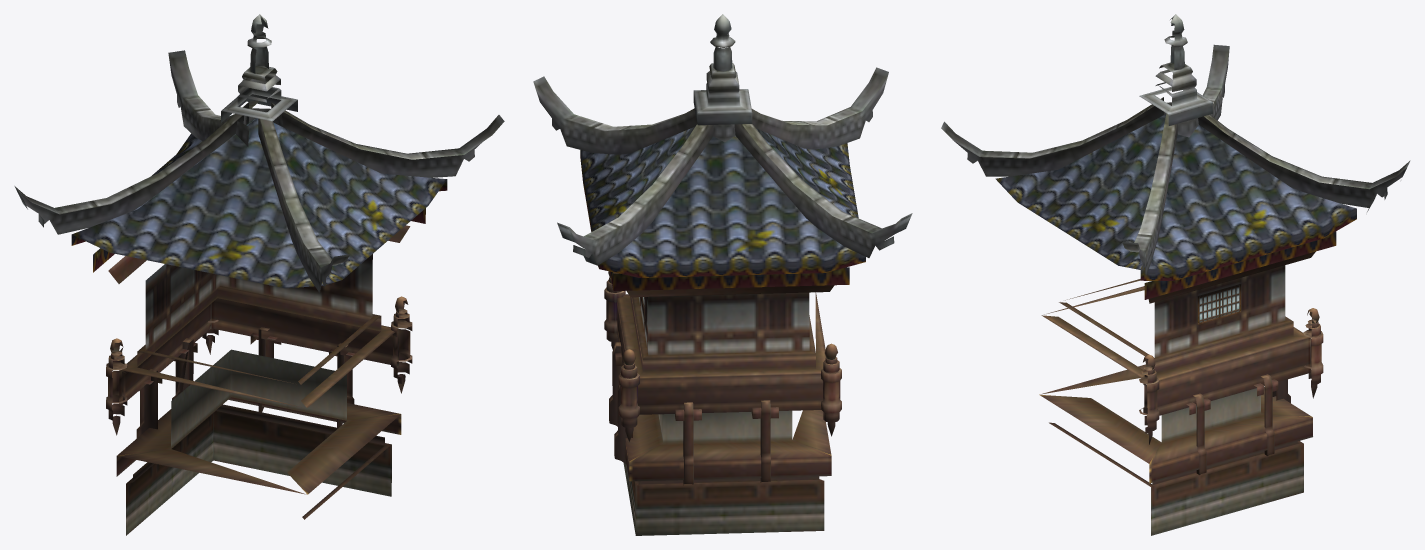
Rendered from S2_Build_XSC016_H11.FBX.
3 views of the same model, side by side, from view 1: azimuth 30°, elevation 25°; view 2: azimuth 150°, elevation 25°; view 3: azimuth 270°, elevation 25° (orthographic). The views are drawn at different scales.
Visible parts, largest first — view 1: S2_Build_XSC016_H11; view 2: S2_Build_XSC016_H11; view 3: S2_Build_XSC016_H11.
Boxes of the visible parts, <box> form: S2_Build_XSC016_H11: <box>14,14,504,535</box>; S2_Build_XSC016_H11: <box>533,14,912,535</box>; S2_Build_XSC016_H11: <box>941,14,1410,535</box>.
Size of the model in its own units: 3885 by 4257 by 3868.
